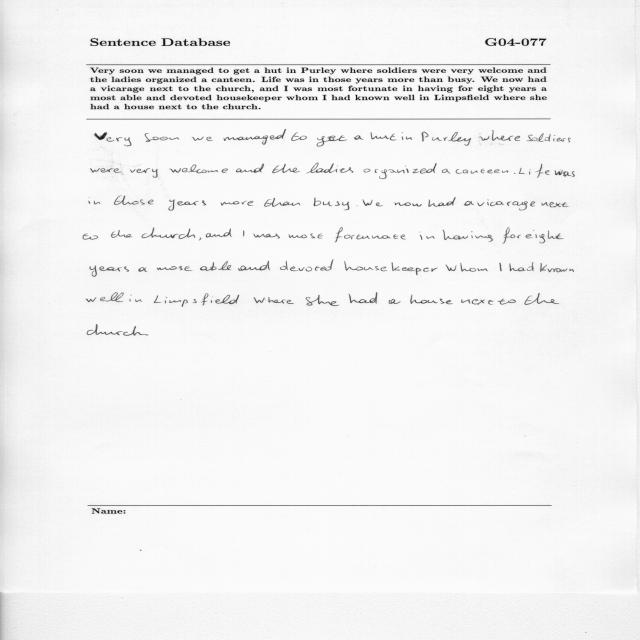word: (344, 261, 438, 275), (154, 293, 239, 307), (363, 163, 437, 179), (335, 228, 406, 243), (224, 129, 286, 145), (421, 132, 471, 146), (477, 200, 535, 211), (442, 230, 493, 242), (142, 228, 196, 239), (280, 260, 333, 271), (479, 130, 520, 144), (169, 165, 228, 174), (95, 132, 132, 146), (526, 230, 564, 243), (307, 163, 354, 173), (90, 265, 129, 277), (169, 199, 207, 211), (314, 198, 349, 211), (519, 164, 550, 178), (410, 295, 453, 305), (525, 293, 560, 305), (527, 133, 571, 142), (446, 263, 489, 272), (306, 295, 339, 306), (317, 135, 347, 147), (114, 196, 154, 205), (87, 325, 123, 335), (86, 293, 124, 302), (264, 198, 300, 207), (238, 261, 270, 271), (349, 293, 378, 304), (200, 261, 231, 271), (145, 133, 179, 142), (540, 263, 574, 272), (502, 228, 521, 244), (253, 297, 294, 304), (130, 168, 158, 178), (428, 197, 456, 207), (456, 169, 508, 174), (123, 326, 149, 336), (236, 164, 264, 173), (272, 164, 300, 173), (206, 229, 232, 238), (509, 262, 534, 271), (371, 133, 397, 141), (461, 299, 493, 305), (157, 266, 192, 271), (289, 234, 323, 239), (554, 169, 575, 177), (111, 230, 132, 238), (221, 201, 254, 206), (91, 168, 122, 173), (291, 132, 307, 141), (363, 200, 383, 207), (541, 202, 569, 207), (253, 234, 280, 239), (420, 232, 435, 240), (394, 203, 422, 207), (498, 299, 516, 305), (129, 295, 142, 302), (83, 234, 98, 240), (192, 137, 213, 141), (402, 132, 412, 140), (389, 299, 401, 304), (464, 201, 474, 206), (139, 267, 148, 272), (354, 136, 364, 140), (442, 169, 450, 174), (89, 201, 100, 204), (499, 263, 502, 271), (243, 231, 245, 237), (199, 238, 201, 241), (514, 173, 516, 174), (357, 206, 358, 206)
